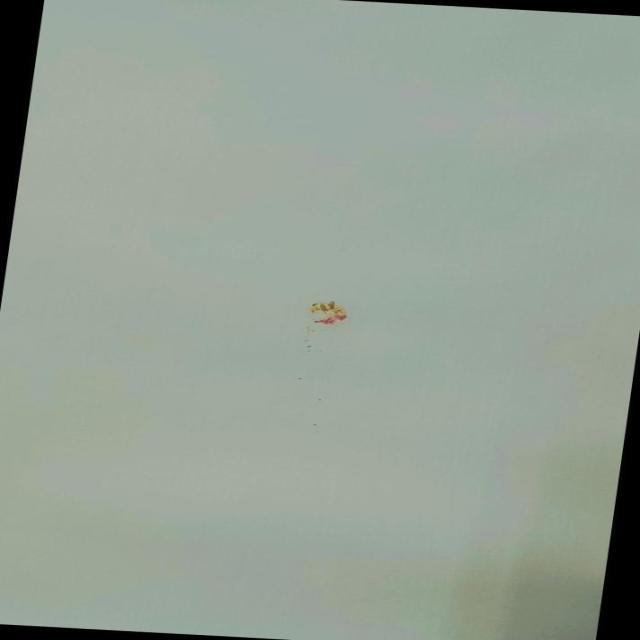stain: (292, 292, 365, 334)
